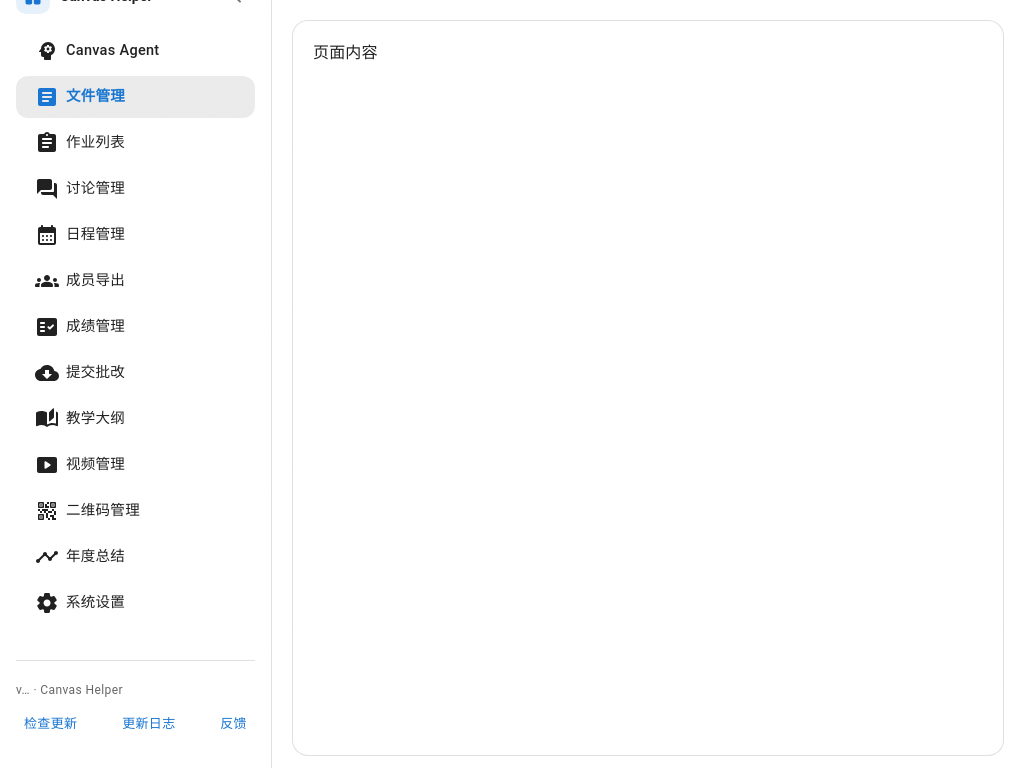
Test: opens logs and feedback from the regular sidebar with no debug or experimental flags
(page scrolled)
Click the button "反馈": click(234, 724) [212,709,255,740]
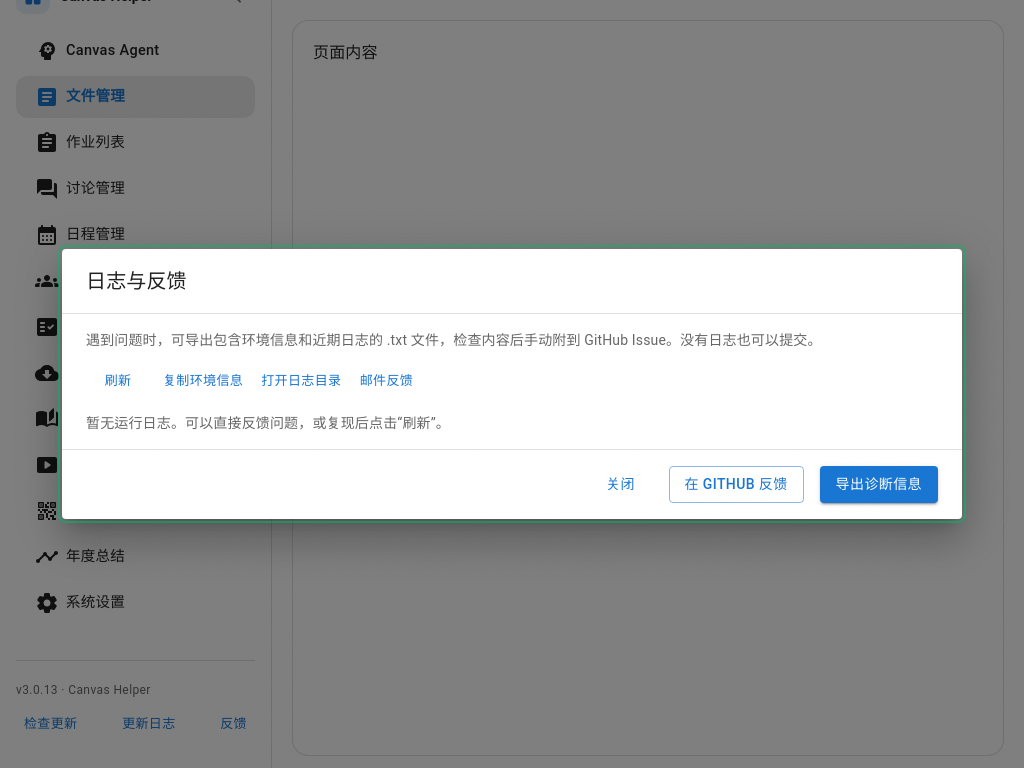
Check: the dialog "日志与反馈" is shown, box [62,249,962,519]
Check: the text "暂无运行日志。可以直接反馈问题，或复现后点击“刷新”。" is shown, box [86,415,450,431]
Check: the button "导出诊断信息" is enabled, box [820,466,938,503]
